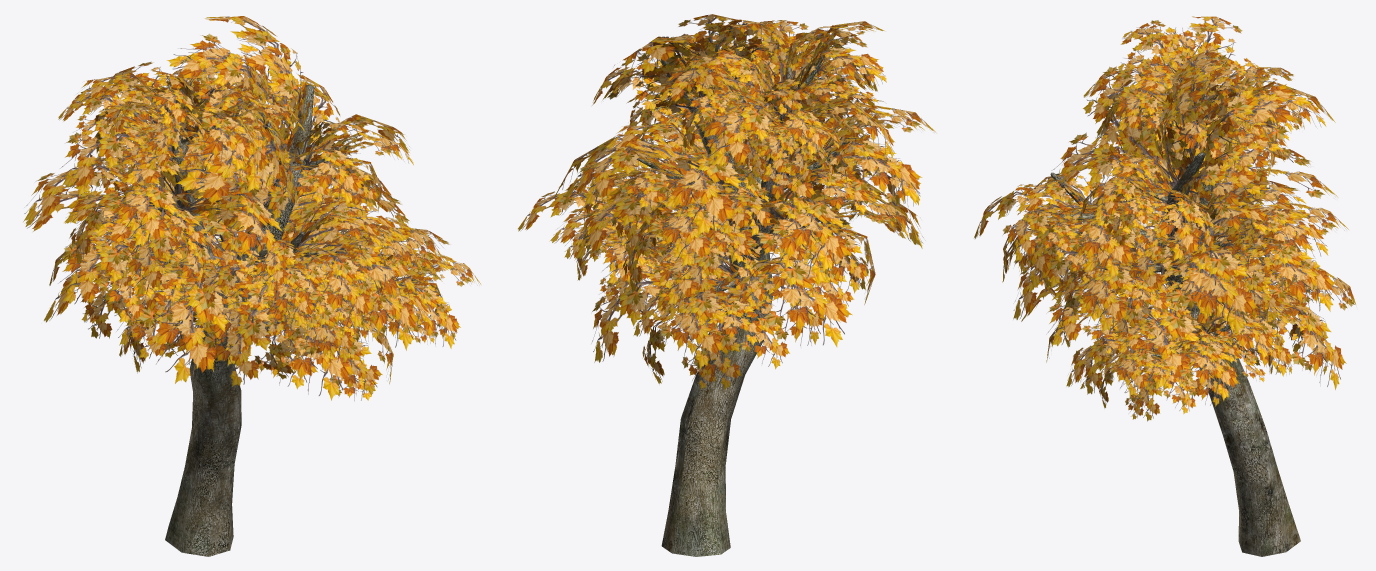
The model's file is autumn_tree.glb.
3 renders of one model, left to right at view 1: azimuth 30°, elevation 25°; view 2: azimuth 150°, elevation 25°; view 3: azimuth 270°, elevation 25°, orthographic. The views are drawn at different scales.
Parts seen in each view (by area): view 1: Tree_06; view 2: Tree_06; view 3: Tree_06.
Part boxes in pixels (x1,y1,x2,y2): Tree_06: [23, 16, 480, 556]; Tree_06: [518, 14, 935, 556]; Tree_06: [974, 16, 1355, 556].
Size of the model in its own units: 6.08 by 7.26 by 5.35.
2 materials, 2 textured.
